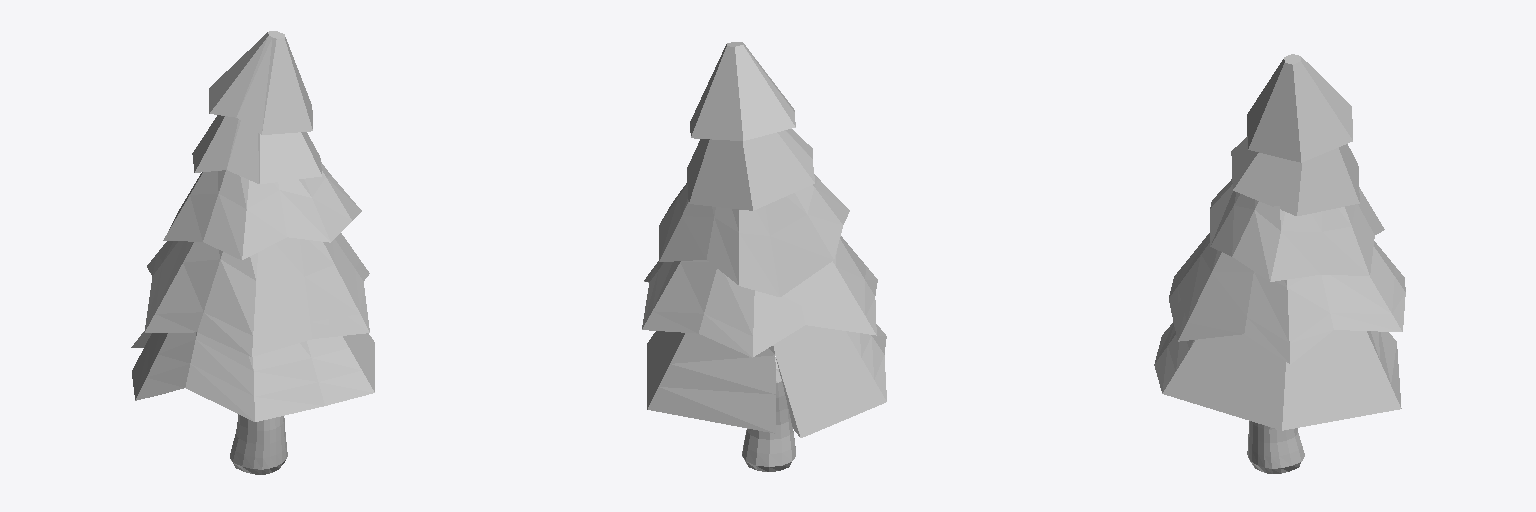
File: tree3.obj
3 renders of one model, left to right at view 1: azimuth 30°, elevation 25°; view 2: azimuth 150°, elevation 25°; view 3: azimuth 270°, elevation 25°, orthographic.
Parts seen in each view (by area): view 1: Cylinder.002, Cylinder.001, Cylinder.003, Cylinder.004, Cylinder.005, Cylinder; view 2: Cylinder.001, Cylinder.002, Cylinder.003, Cylinder.005, Cylinder.004, Cylinder; view 3: Cylinder.001, Cylinder.002, Cylinder.003, Cylinder.004, Cylinder.005, Cylinder.
Boxes of the visible parts, x1,y1,x2,y2 form: Cylinder.002: [144, 233, 369, 356]; Cylinder.001: [131, 331, 374, 421]; Cylinder.003: [163, 161, 361, 259]; Cylinder.004: [209, 31, 312, 134]; Cylinder.005: [192, 115, 321, 183]; Cylinder: [230, 414, 287, 474]; Cylinder.001: [647, 324, 886, 437]; Cylinder.002: [642, 236, 877, 357]; Cylinder.003: [659, 174, 849, 296]; Cylinder.005: [687, 129, 814, 210]; Cylinder.004: [690, 42, 795, 140]; Cylinder: [742, 357, 795, 471]; Cylinder.001: [1154, 322, 1401, 430]; Cylinder.002: [1169, 233, 1405, 364]; Cylinder.003: [1210, 179, 1384, 281]; Cylinder.004: [1247, 54, 1352, 162]; Cylinder.005: [1231, 136, 1359, 215]; Cylinder: [1247, 421, 1304, 473].
Size of the model in its own units: 2.88 by 4.85 by 2.62.